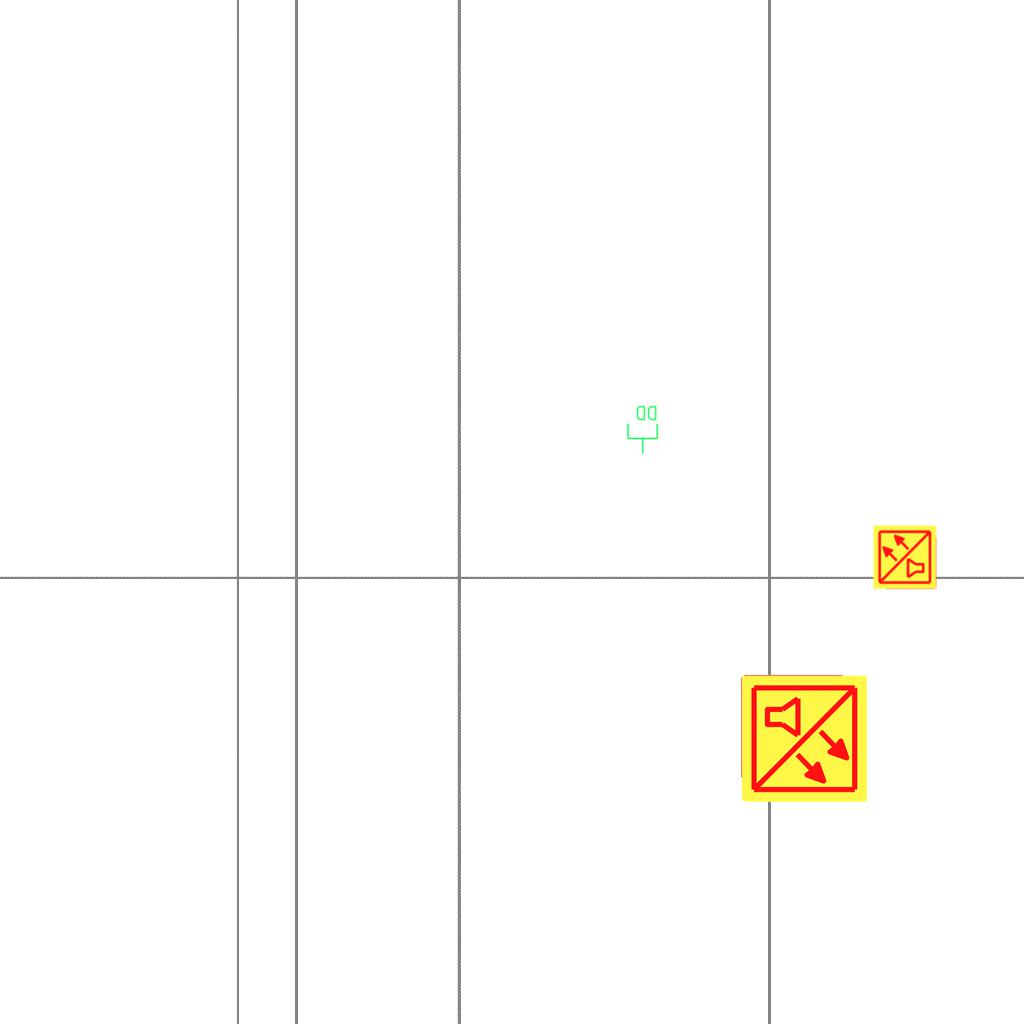Datenanschluss_zweifach: (626, 404, 660, 455)
OKW_Multisensormelder_(Kombination_optischer_Rauch-Kahlenmonoxid_Waerme-Melder): (738, 673, 870, 805), (872, 524, 938, 590)
